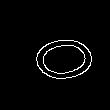O_NE: (12, 25, 98, 85)
